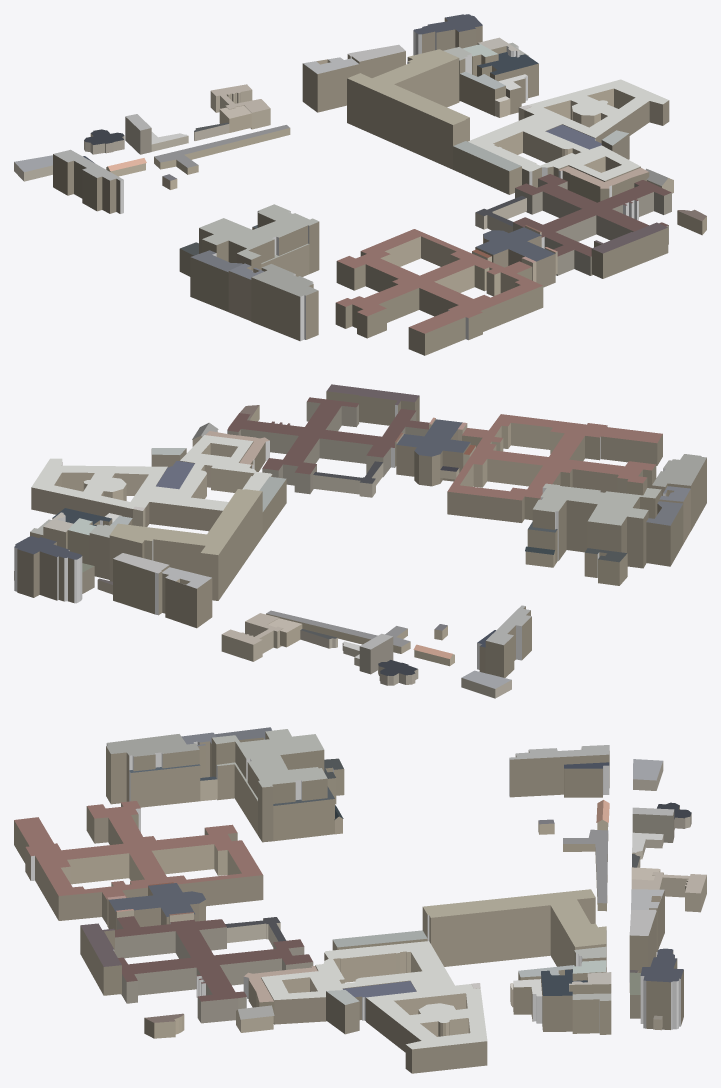
3 renders of one model, top to bottom at view 1: azimuth 30°, elevation 25°; view 2: azimuth 150°, elevation 25°; view 3: azimuth 270°, elevation 25°, orthographic. The views are drawn at different scales.
Parts seen in each view (by area): view 1: tuile; view 2: tuile; view 3: tuile.
Boxes of the visible parts, x1=… form: tuile: x1=14, y1=14, x2=706, y2=355; tuile: x1=14, y1=384, x2=706, y2=698; tuile: x1=14, y1=727, x2=706, y2=1073.
Bounding box in the file's own units: 300 × 29.53 × 291.
